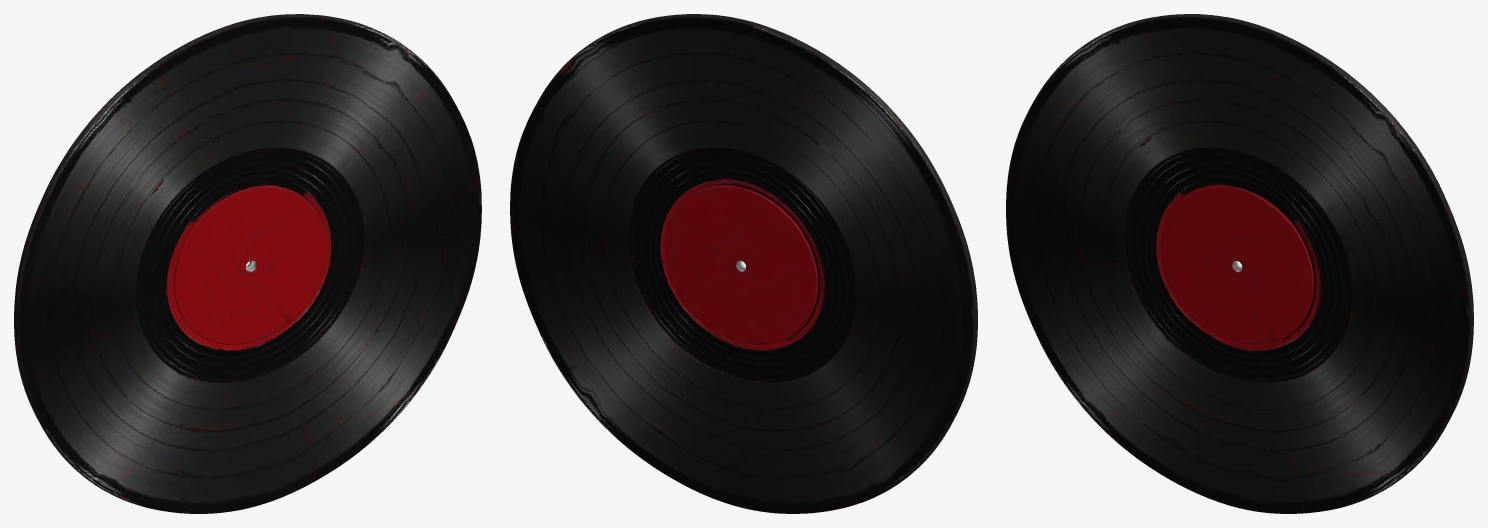
The model's file is vinyl.glb.
3 renders of one model, left to right at view 1: azimuth 30°, elevation 25°; view 2: azimuth 150°, elevation 25°; view 3: azimuth 330°, elevation 25°, orthographic.
Parts seen in each view (by area): view 1: Mesh_0; view 2: Mesh_0; view 3: Mesh_0.
Part boxes in pixels (x1=…): Mesh_0: x1=14, y1=14, x2=481, y2=513; Mesh_0: x1=510, y1=14, x2=977, y2=513; Mesh_0: x1=1006, y1=14, x2=1473, y2=513.
Size of the model in its own units: 0.9999 by 0.9979 by 0.0222.
1 material, 1 textured.
